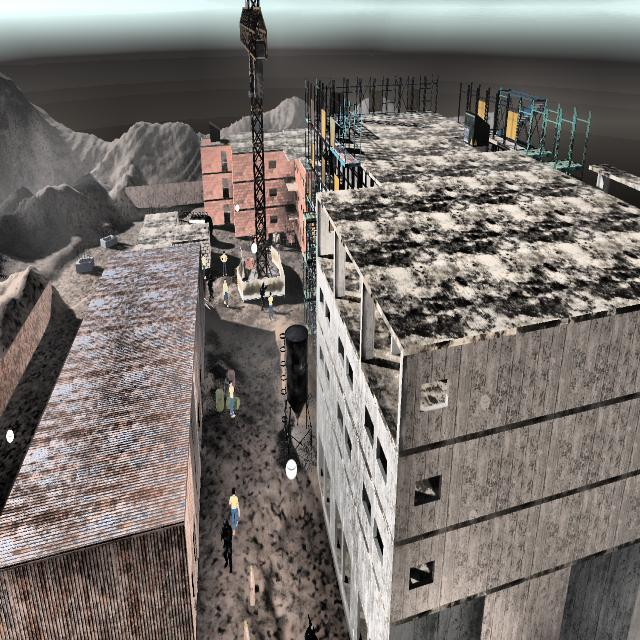bad: (219, 516, 235, 582), (304, 613, 319, 640), (207, 268, 215, 300), (260, 274, 266, 313)
good: (228, 481, 242, 543), (224, 375, 237, 422), (266, 290, 276, 321), (220, 243, 228, 279), (222, 276, 230, 309), (202, 248, 207, 278)
